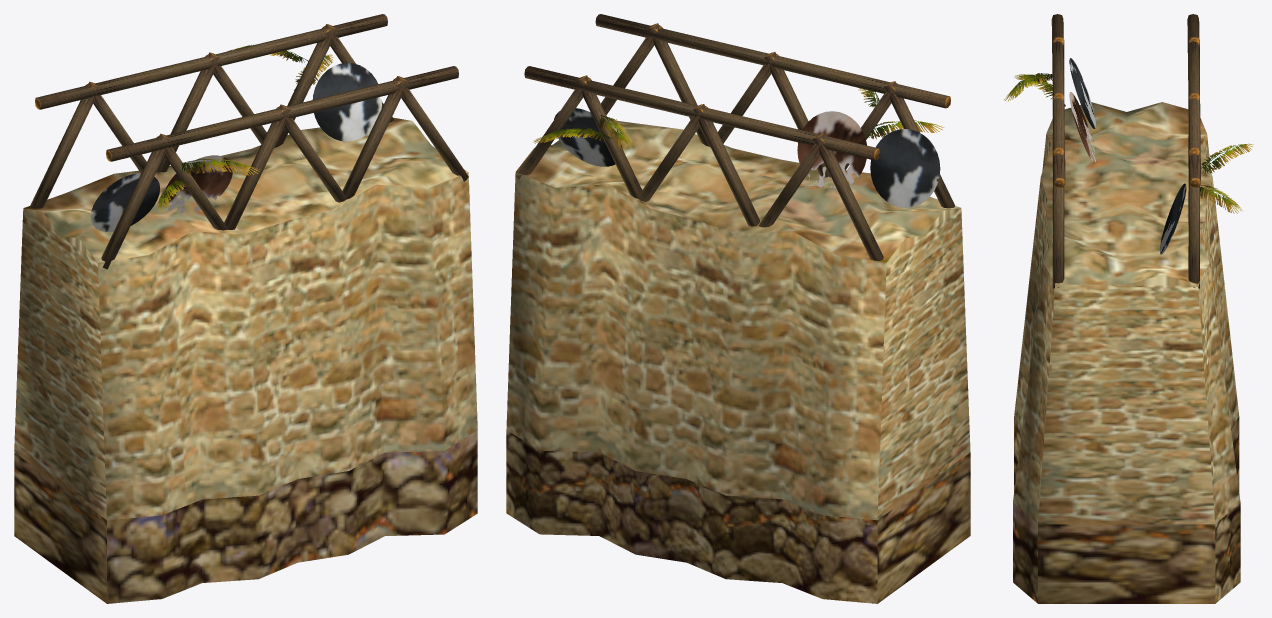
The model's file is wall_short.dae.
The picture shows the model from 3 angles, left to right: view 1: azimuth 30°, elevation 25°; view 2: azimuth 150°, elevation 25°; view 3: azimuth 270°, elevation 25°; orthographic projection. The views are drawn at different scales.
Visible parts, largest first — view 1: wall_short; view 2: wall_short; view 3: wall_short.
Part boxes in pixels (x1,y1,x2,y2): wall_short: [14, 14, 477, 603]; wall_short: [506, 14, 970, 603]; wall_short: [1004, 14, 1253, 603].
Bounding box in the file's own units: 14.92 × 9.41 × 17.1.
